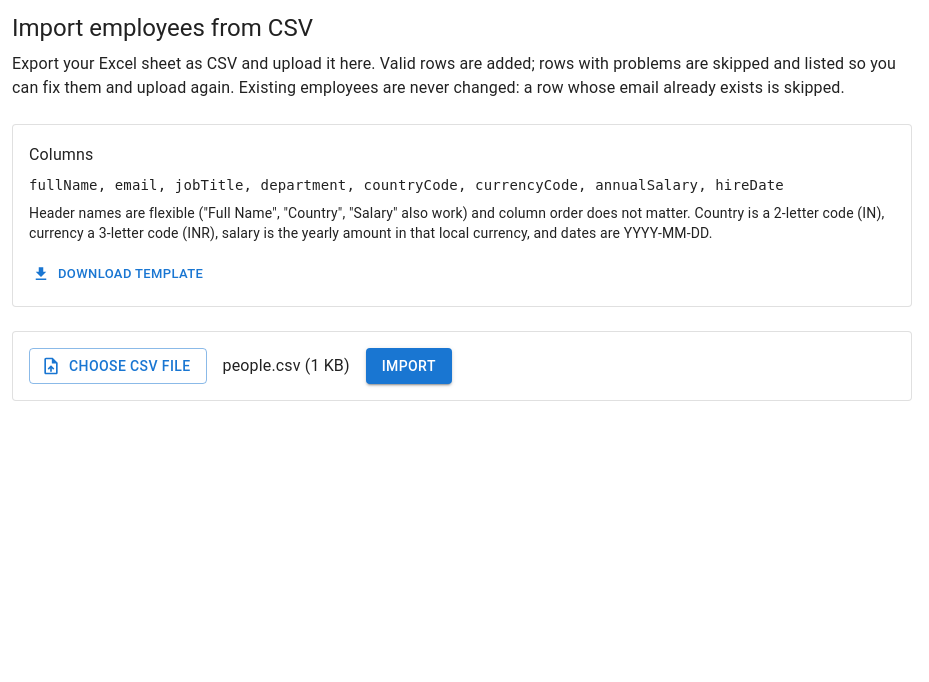
Test: ImportPage › lists skipped rows by row number with the reason
Earlier steps of the test are not shown.
Click the button "Import": (409, 366) [366,348,452,384]
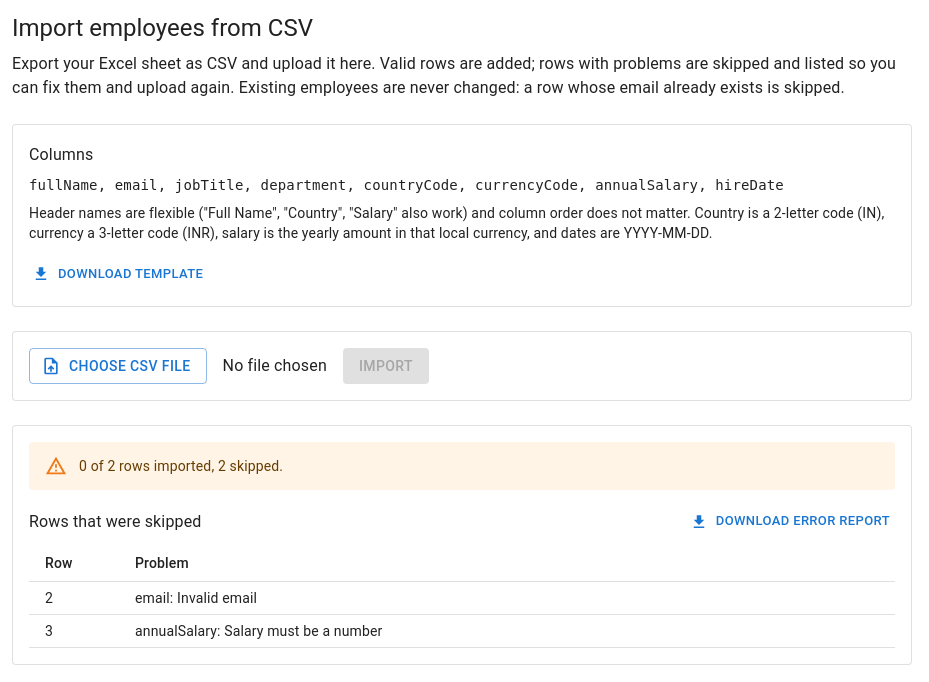
Expected: the text "annualSalary: Salary must be a number" is shown, [119,615,895,648]
Expected: the text "0 of 2 rows imported, 2 skipped." is shown, [79,458,283,474]
Expected: the button "Download error report" is shown, [687,506,895,537]
